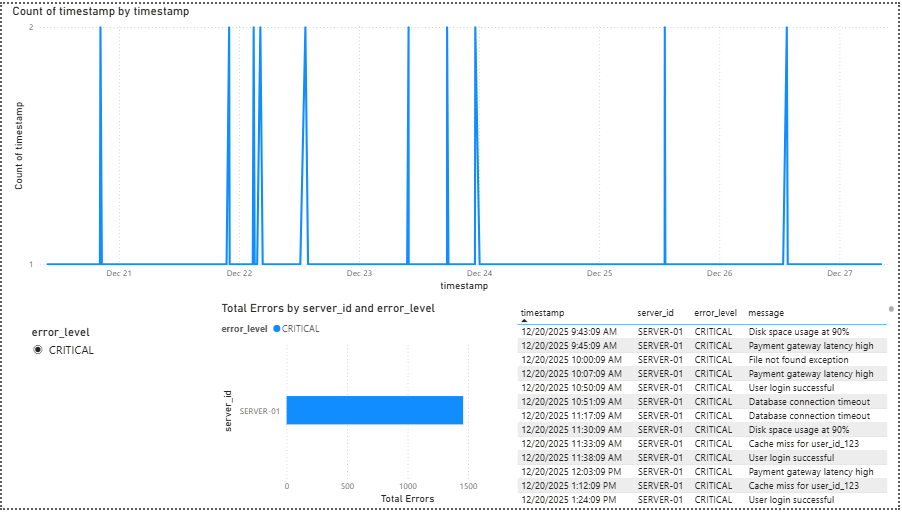

The dashboard page shown, as its layout file describes it:
{"tool":"powerbi","page":{"name":"Page 1","canvas":[1280,720],"ordinal":0},"visuals":[{"type":"lineChart","fields":{"Category":["server_logs_clean.timestamp"],"Y":["CountNonNull(server_logs_clean.timestamp)"]},"box":[10.1,0,1269.9,414.9],"z":0},{"type":"clusteredBarChart","fields":{"Category":["server_logs_clean.server_id"],"Y":["server_logs_clean.Total Errors"],"Series":["server_logs_clean.error_level"]},"box":[309.1,425,461.9,295.6],"z":1000},{"type":"tableEx","fields":{"Values":["server_logs_clean.timestamp","server_logs_clean.server_id","server_logs_clean.error_level","server_logs_clean.message"]},"box":[836.5,425,443.5,295.6],"z":2000},{"type":"listSlicer","fields":{"Values":["server_logs_clean.error_level"]},"box":[37,458.6,231.8,226.8],"z":3000}]}

Visuals, with their boxes in screenshot pixels (x1, y1, x2, y2), scaled from the page's 1280x720 canvas onto the 902x516 screenshot:
lineChart - server_logs_clean.timestamp x CountNonNull(server_logs_clean.timestamp): box(7, 0, 901, 297)
clusteredBarChart - server_logs_clean.server_id x server_logs_clean.Total Errors: box(218, 305, 543, 515)
tableEx - server_logs_clean.timestamp x server_logs_clean.server_id: box(589, 305, 901, 515)
listSlicer - server_logs_clean.error_level: box(26, 329, 189, 491)
